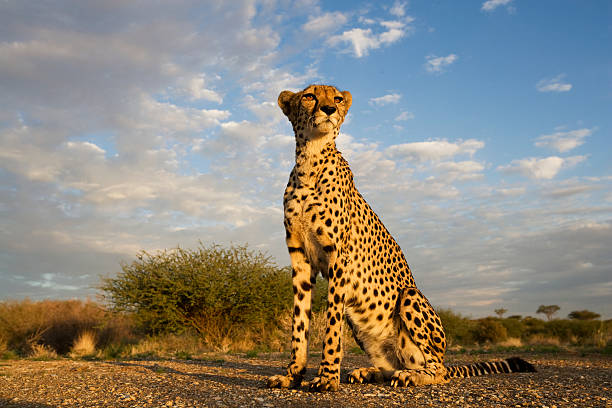cheetah: (271, 77, 363, 156)
